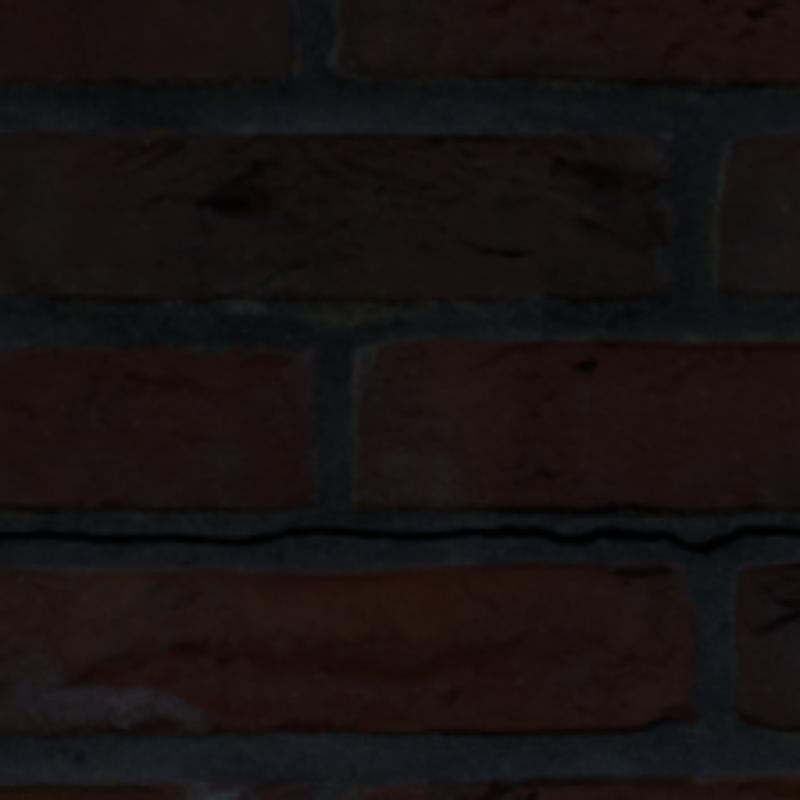pothole: (0, 525, 796, 554)
